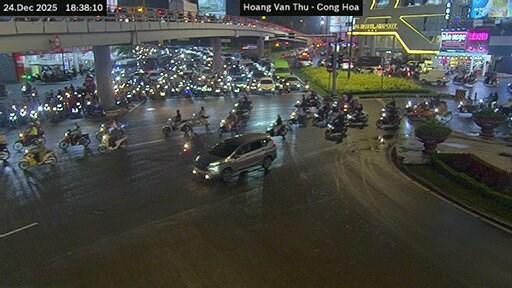motorbike: (12, 127, 44, 149), (18, 151, 56, 169), (58, 129, 89, 148), (454, 99, 485, 117), (98, 134, 127, 153), (179, 135, 207, 154), (179, 112, 208, 130), (376, 108, 400, 129), (162, 117, 185, 135), (266, 121, 290, 138), (218, 118, 240, 135), (83, 103, 105, 117), (326, 121, 345, 136), (346, 112, 367, 125), (288, 111, 307, 125), (233, 99, 252, 111), (0, 135, 9, 160), (95, 124, 108, 139), (483, 72, 497, 85), (463, 72, 476, 85), (112, 122, 125, 135), (451, 73, 464, 84), (506, 81, 511, 91)
